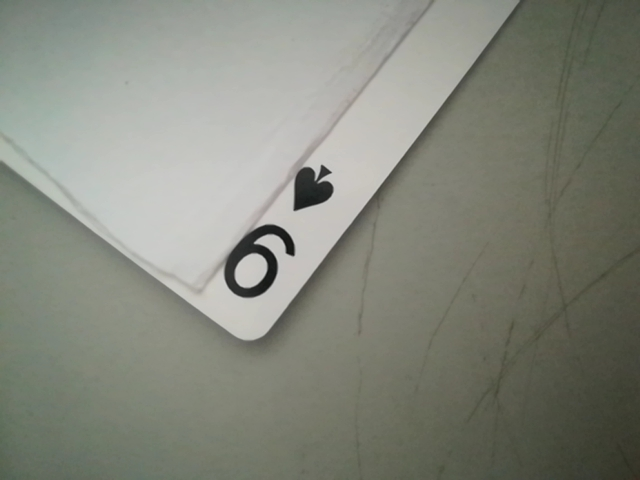ht 9: (201, 157, 342, 326)
